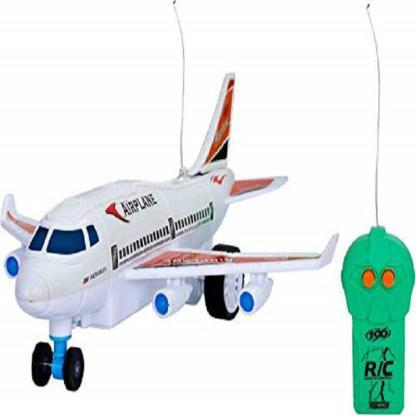CIV_Plane: (1, 72, 340, 391)
